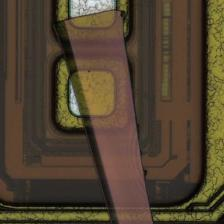COATING BAD: (52, 9, 156, 224)
